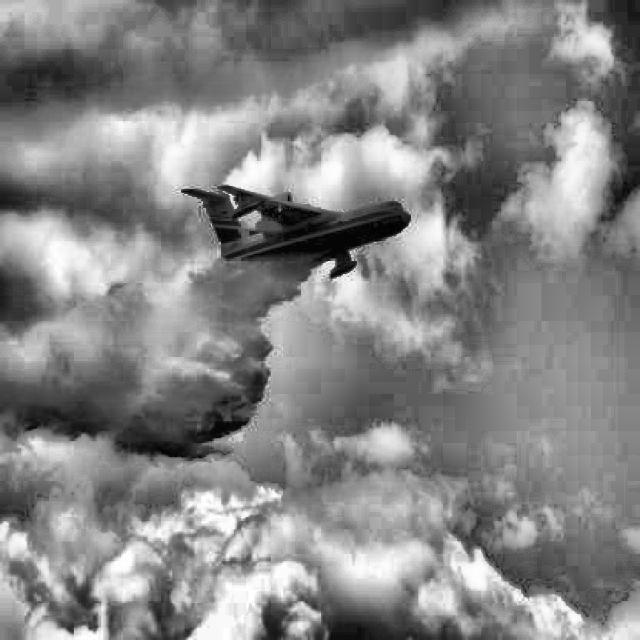Be200: (180, 185, 411, 280)
